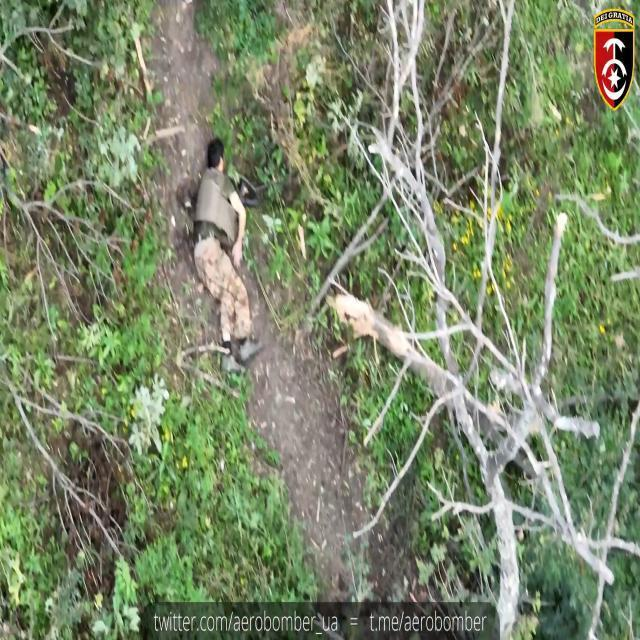MIL_Pax: (194, 138, 259, 359)
